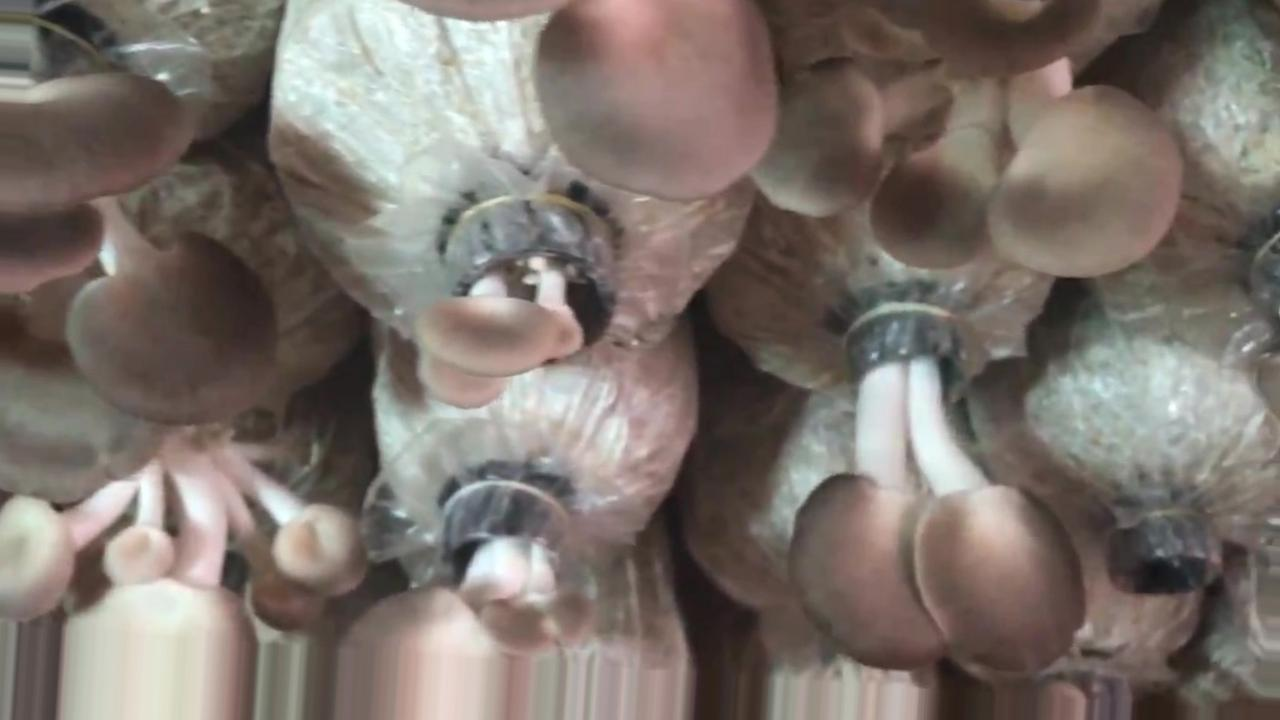nam: (532, 1, 1185, 275), (793, 306, 1084, 675), (4, 431, 368, 720), (1, 53, 278, 420), (337, 482, 595, 720), (417, 199, 618, 409)
